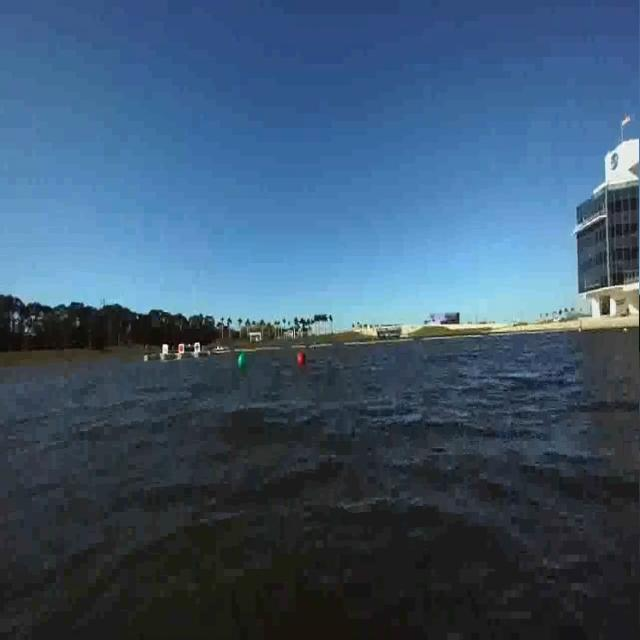green-buoy: (234, 343, 250, 367)
red-buoy: (296, 341, 312, 371)
